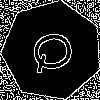Q: (27, 25, 86, 77)
